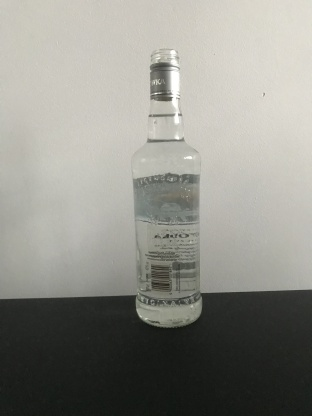nakretka: (148, 46, 181, 101)
